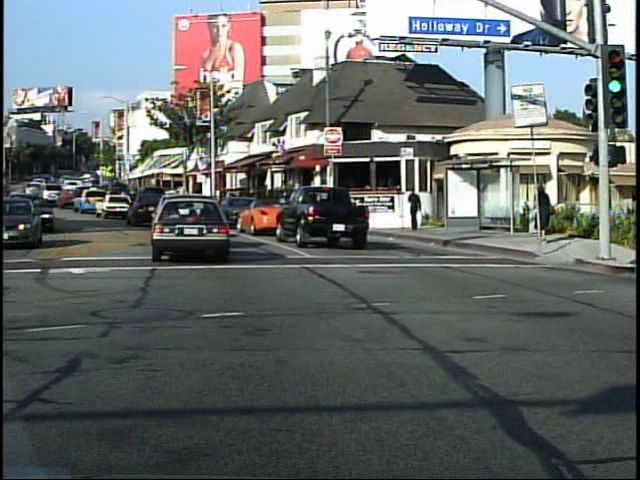person: (533, 182, 558, 249), (407, 186, 425, 235)
